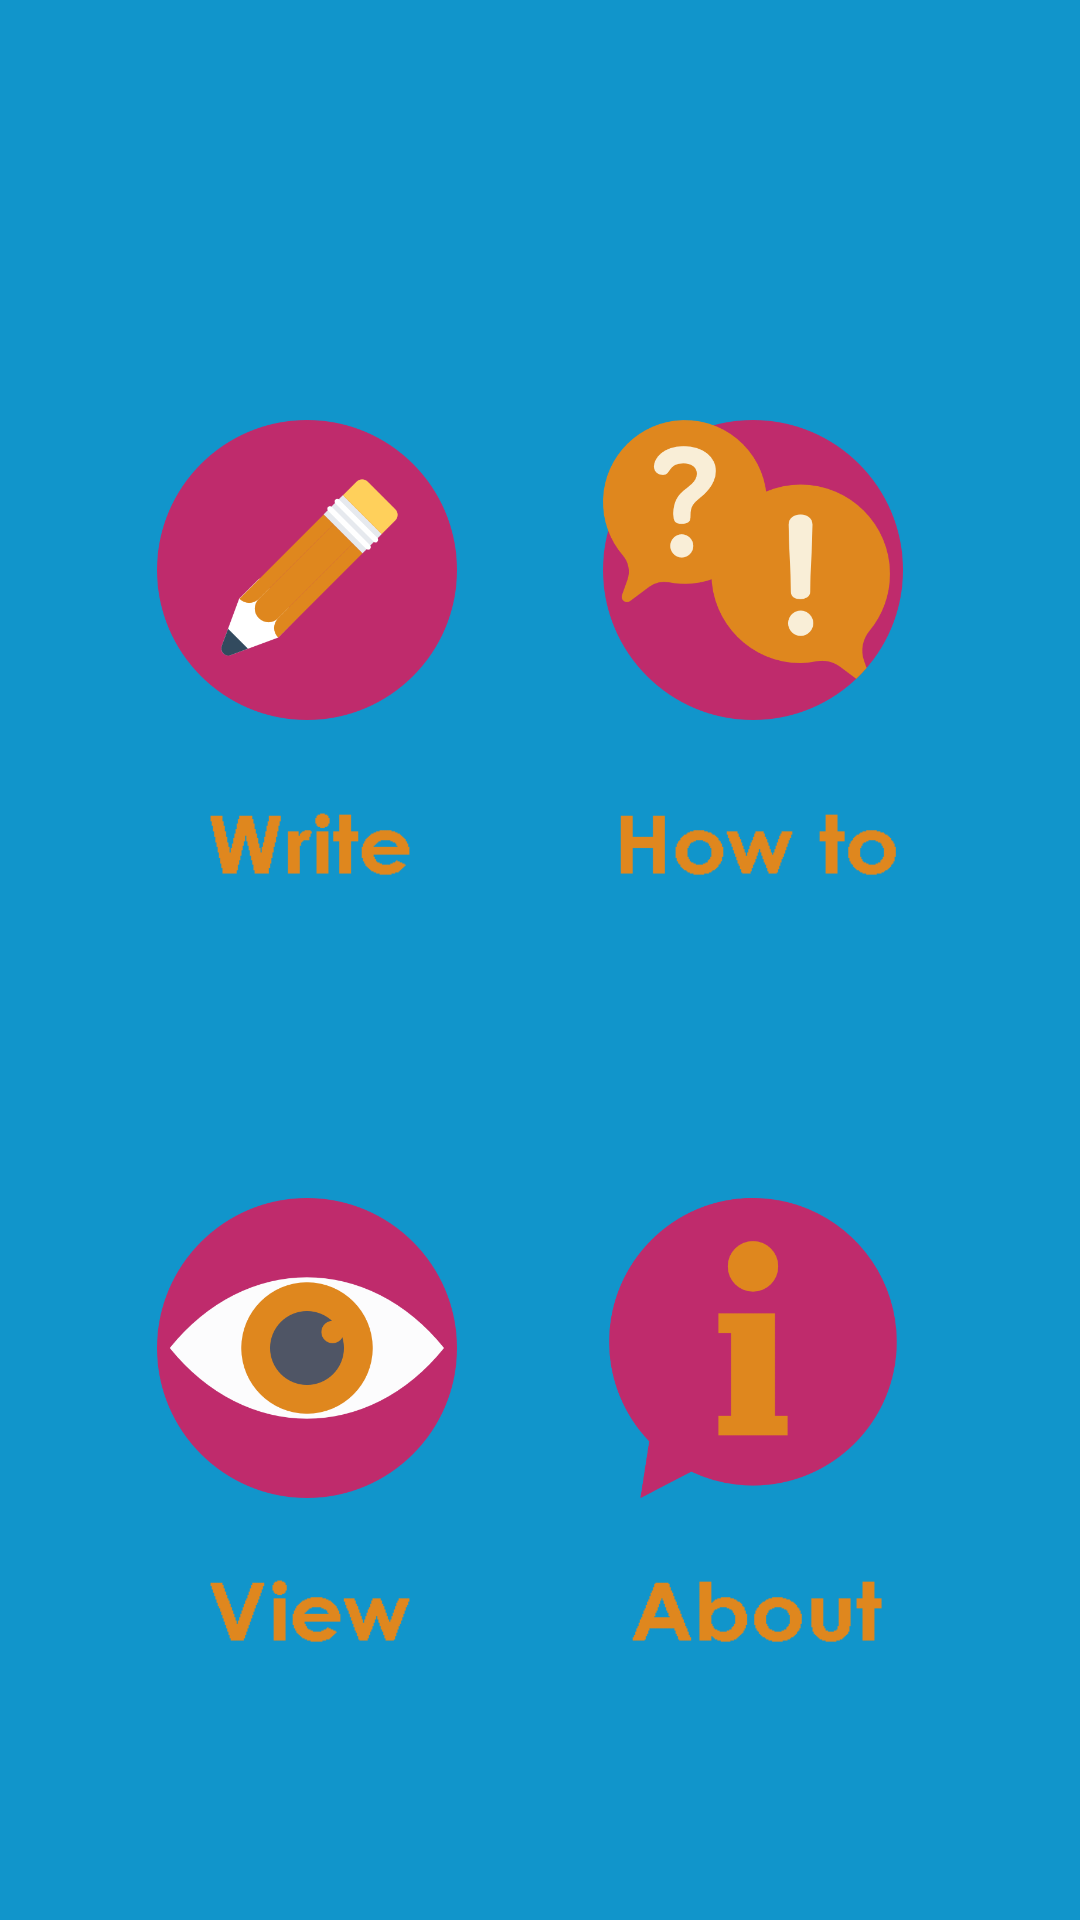

Icon click points for this 1080 × 1920 phone screenshot, format (x,y):
info: (753,1348)
question: (753,570)
